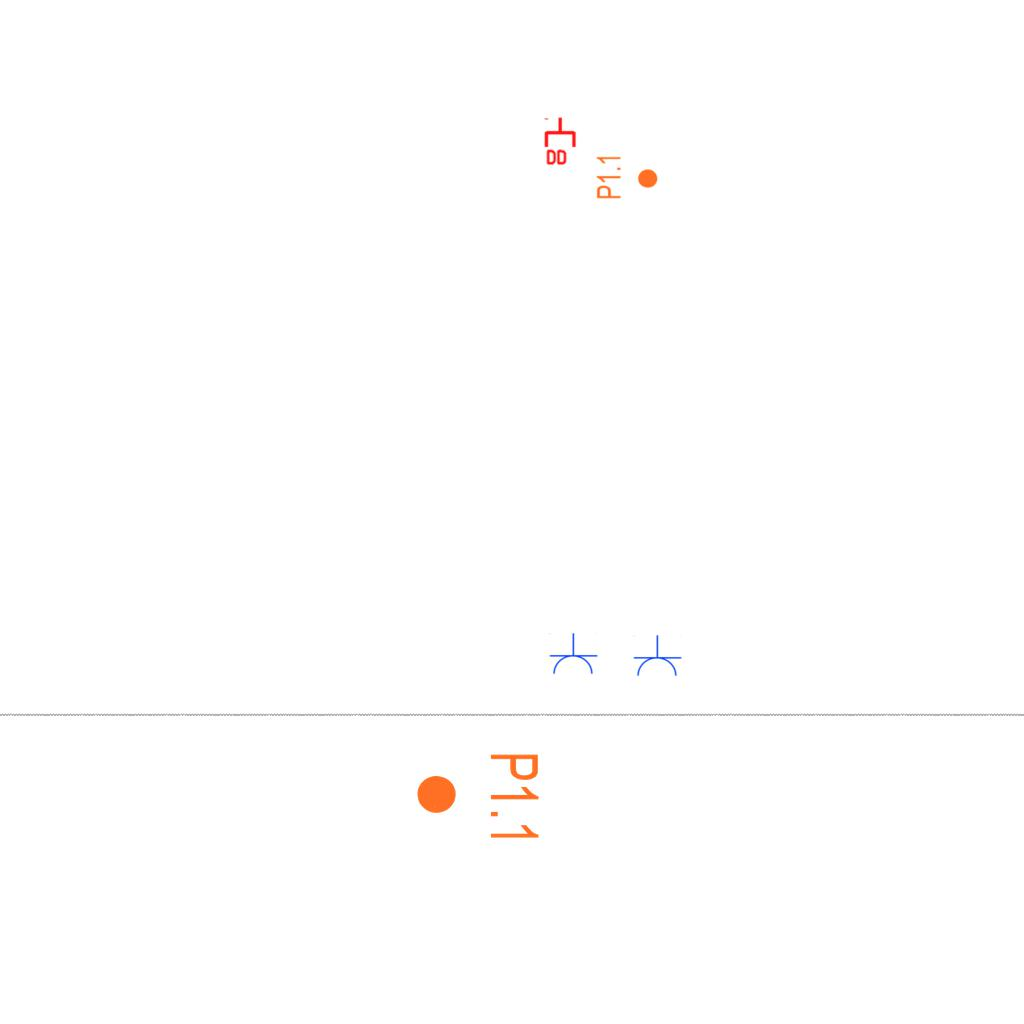Datenanschluss_zweifach: (544, 116, 578, 167)
Downlight_LED_Einbauleuchten_Flur: (414, 751, 542, 844), (595, 154, 659, 200)
Schukosteckdose_einfach: (632, 635, 682, 678), (548, 633, 598, 676)
